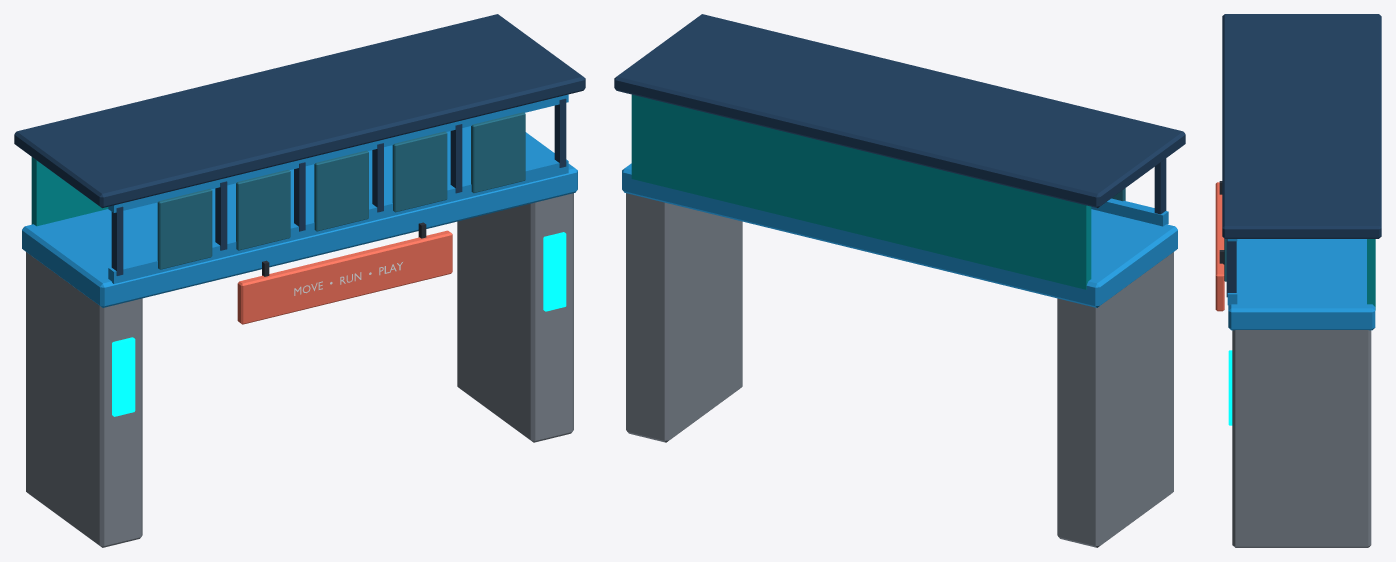
Rendered from bridge_a.glb.
The picture shows the model from 3 angles, left to right: view 1: azimuth 30°, elevation 25°; view 2: azimuth 150°, elevation 25°; view 3: azimuth 270°, elevation 25°; orthographic projection. The views are drawn at different scales.
Parts seen in each view (by area): view 1: Bridge_Roof, Bridge_Tower_-5.5, Bridge_Tower_5.5, Bridge_Deck, Bridge_Sign, Bridge_FrontSill, Bridge_Window_-4, Bridge_Window_2, Bridge_Window_-2, Bridge_Window_0, Bridge_Window_4, Bridge_FrontLintel (+9 smaller); view 2: Bridge_Roof, Bridge_RearPanel, Bridge_Tower_-5.5, Bridge_Tower_5.5, Bridge_Deck, Bridge_FrontSill; view 3: Bridge_Roof, Bridge_Tower_5.5, Bridge_Deck, Bridge_Sign, Bridge_RearPanel, Bridge_Mullion_5.65, Bridge_Light_5.5, Bridge_FrontSill.
Part boxes in pixels (<box>): Bridge_Roof: <box>14,14,585,208</box>; Bridge_Tower_-5.5: <box>26,252,142,547</box>; Bridge_Tower_5.5: <box>457,193,573,442</box>; Bridge_Deck: <box>22,126,577,307</box>; Bridge_Sign: <box>237,230,452,324</box>; Bridge_FrontSill: <box>108,159,568,283</box>; Bridge_Window_-4: <box>157,188,212,269</box>; Bridge_Window_2: <box>392,131,447,212</box>; Bridge_Window_-2: <box>236,169,290,250</box>; Bridge_Window_0: <box>314,150,368,231</box>; Bridge_Window_4: <box>471,112,525,193</box>; Bridge_FrontLintel: <box>108,94,568,212</box>; Bridge_Roof: <box>614,14,1185,208</box>; Bridge_RearPanel: <box>631,94,1091,289</box>; Bridge_Tower_-5.5: <box>1057,252,1173,547</box>; Bridge_Tower_5.5: <box>626,193,742,442</box>; Bridge_Deck: <box>622,163,1177,307</box>; Bridge_FrontSill: <box>1091,198,1168,226</box>; Bridge_Roof: <box>1222,14,1381,238</box>; Bridge_Tower_5.5: <box>1232,330,1371,547</box>; Bridge_Deck: <box>1228,239,1375,330</box>; Bridge_Sign: <box>1215,182,1224,311</box>; Bridge_RearPanel: <box>1367,239,1375,310</box>; Bridge_Mullion_5.65: <box>1226,239,1236,297</box>; Bridge_Light_5.5: <box>1228,350,1232,425</box>; Bridge_FrontSill: <box>1227,241,1237,305</box>.
Size of the model in its own units: 12.4 by 8.78 by 4.09.
